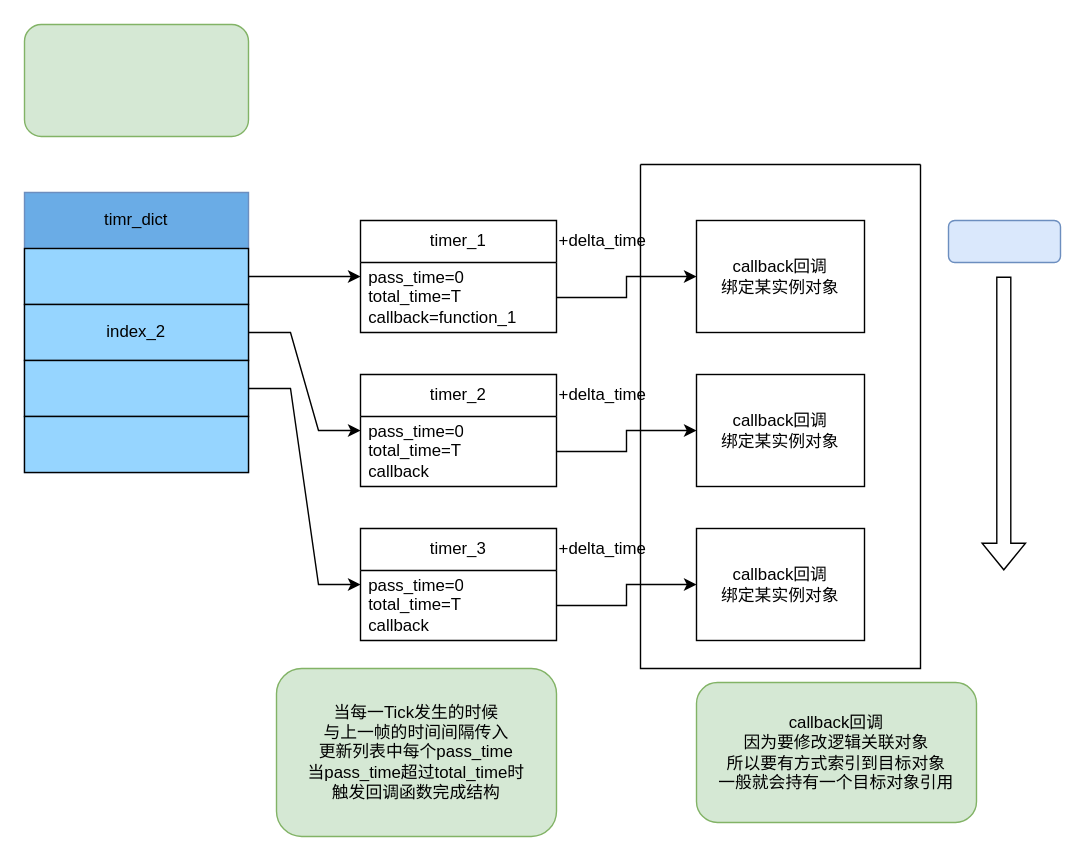
The diagram is 1085 pixels wide and 861 high, and some of its shapes have lost their labels. The shapes that lost their labels are listed below. From the top down, each one's centre as x and y in pixels, then its label:
At (135,79): "一个全局的单例 包含一个内存字典".
At (1003,240): "delta_time".
At (135,275): "index_1".
At (135,387): "index_3".
At (779,415): "逻辑部分关联对象".
